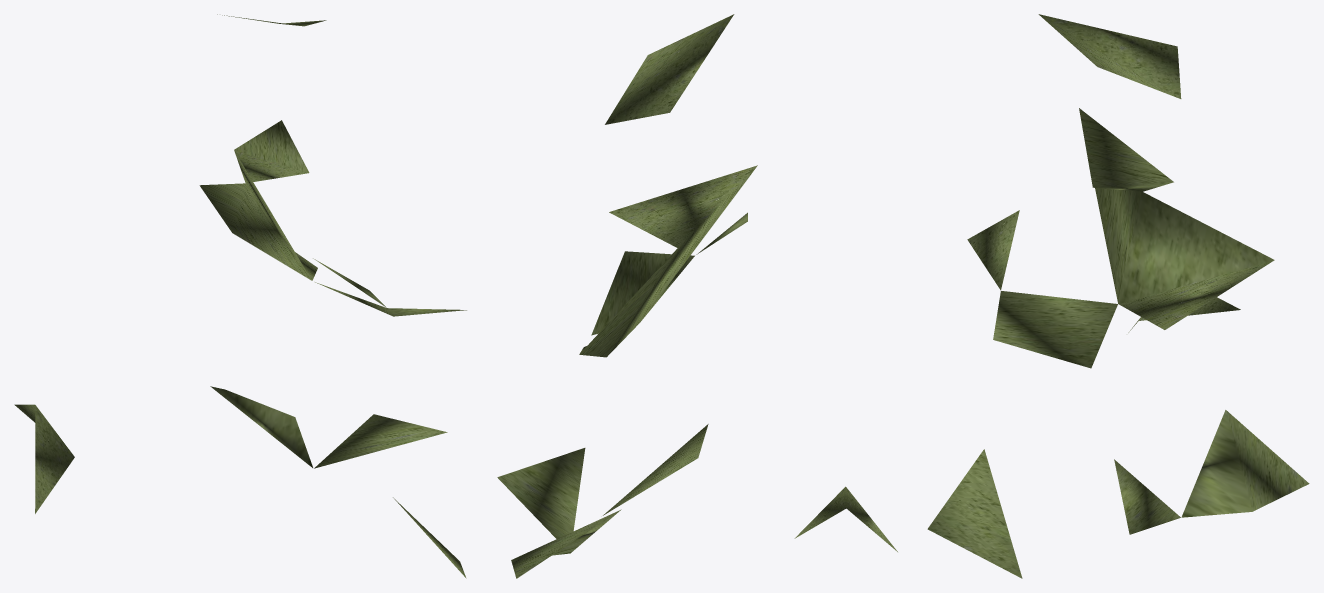
The model's file is abies-fabri-l5.glb.
The picture shows the model from 3 angles, left to right: view 1: azimuth 30°, elevation 25°; view 2: azimuth 150°, elevation 25°; view 3: azimuth 270°, elevation 25°; orthographic projection. The views are drawn at different scales.
Visible parts, largest first — view 1: geometry_0; view 2: geometry_0; view 3: geometry_0.
Boxes of the visible parts, x1,y1,x2,y2 form: geometry_0: (14,14,466,578); geometry_0: (497,14,897,578); geometry_0: (927,14,1309,578).
Size of the model in its own units: 3.08 by 4 by 2.77.
Materials: 1 (1 with a texture image).
